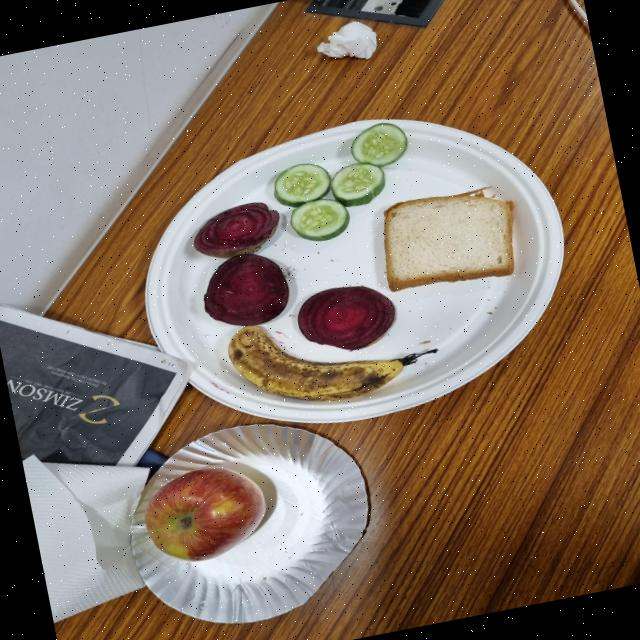apple: (0, 160, 18, 230)
banana: (92, 193, 199, 331)
cucumber: (348, 208, 408, 259), (301, 228, 359, 275), (344, 254, 401, 299), (391, 268, 449, 312)
